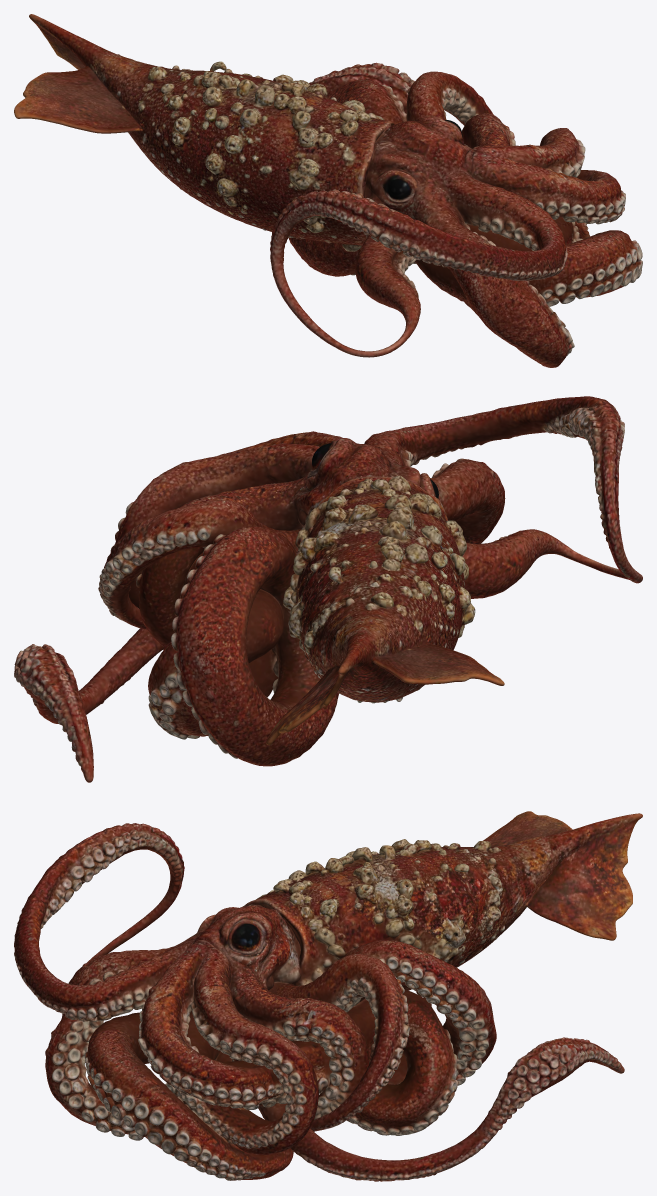
The model's file is kraken.glb.
3 renders of one model, top to bottom at view 1: azimuth 30°, elevation 25°; view 2: azimuth 150°, elevation 25°; view 3: azimuth 270°, elevation 25°, orthographic. The views are drawn at different scales.
Parts seen in each view (by area): view 1: tripo_node_b8cf9127-bb27-4947-b2d9-8c362386f61a; view 2: tripo_node_b8cf9127-bb27-4947-b2d9-8c362386f61a; view 3: tripo_node_b8cf9127-bb27-4947-b2d9-8c362386f61a.
Boxes of the visible parts, x1,y1,x2,y2 form: tripo_node_b8cf9127-bb27-4947-b2d9-8c362386f61a: (14, 14, 642, 367); tripo_node_b8cf9127-bb27-4947-b2d9-8c362386f61a: (14, 396, 642, 782); tripo_node_b8cf9127-bb27-4947-b2d9-8c362386f61a: (14, 811, 642, 1181).
Bounding box in the file's own units: 0.7643 × 0.3663 × 0.9553.
1 material, 1 textured.
